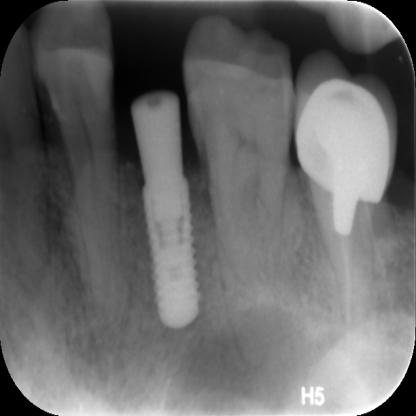ITI: (130, 90, 204, 331)
